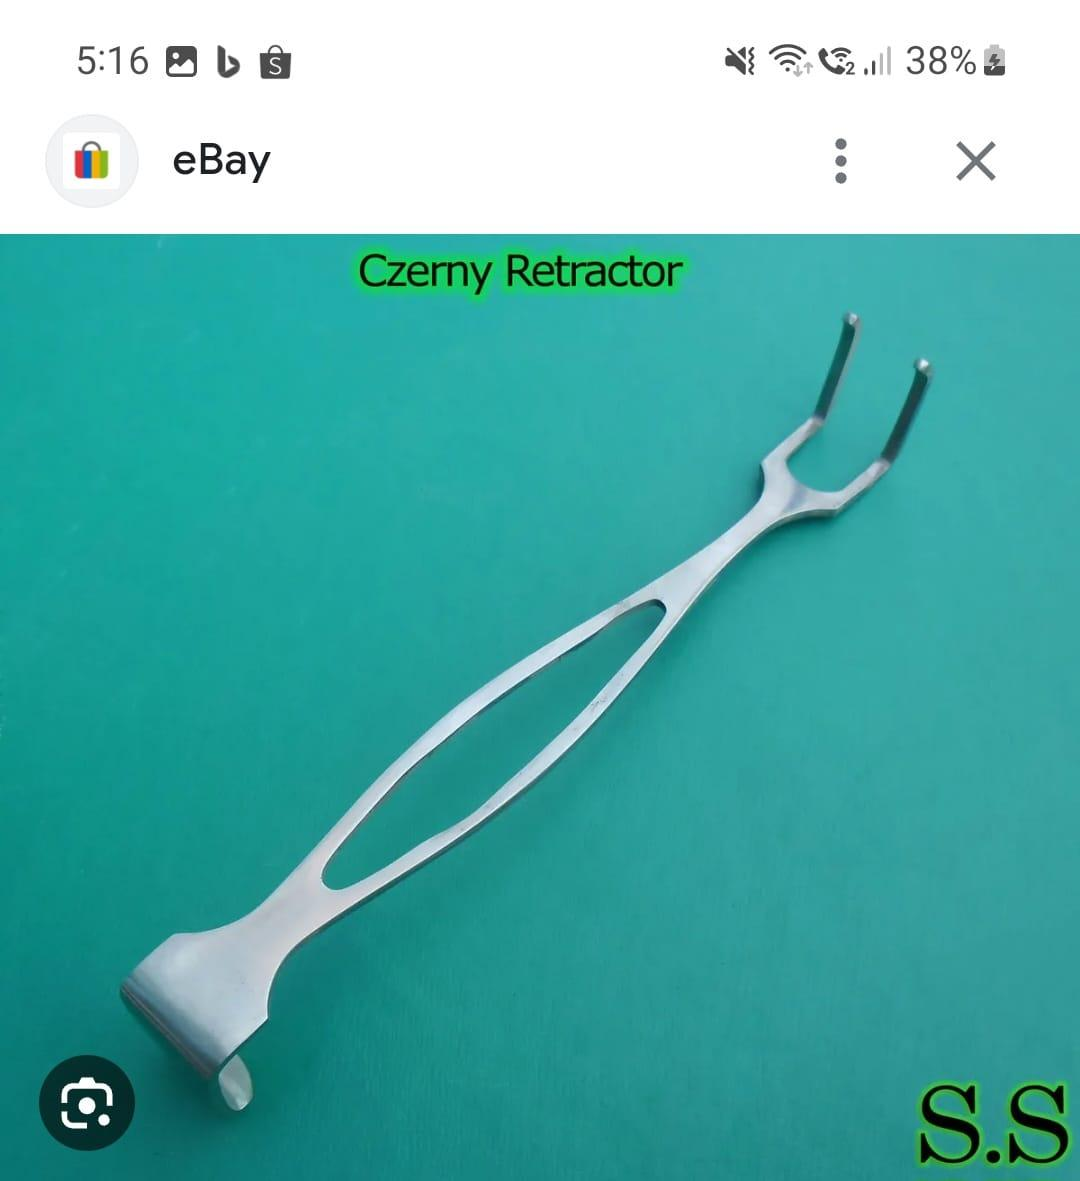Czerney Retractor: (123, 302, 957, 1127)
